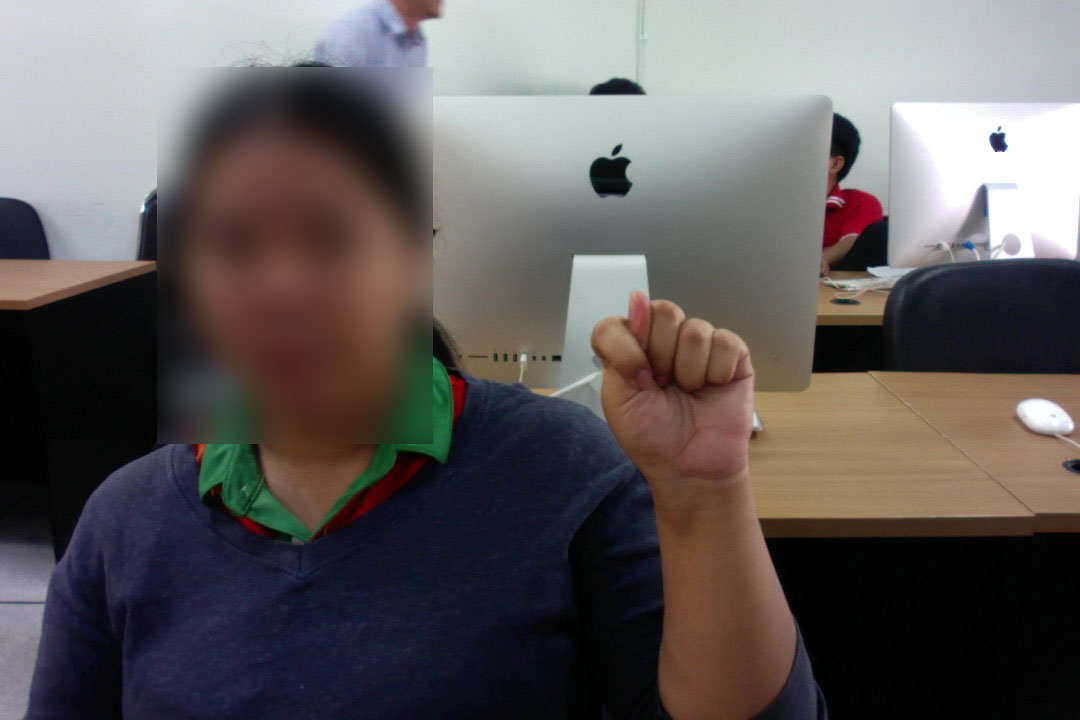tor: (586, 284, 760, 515)
